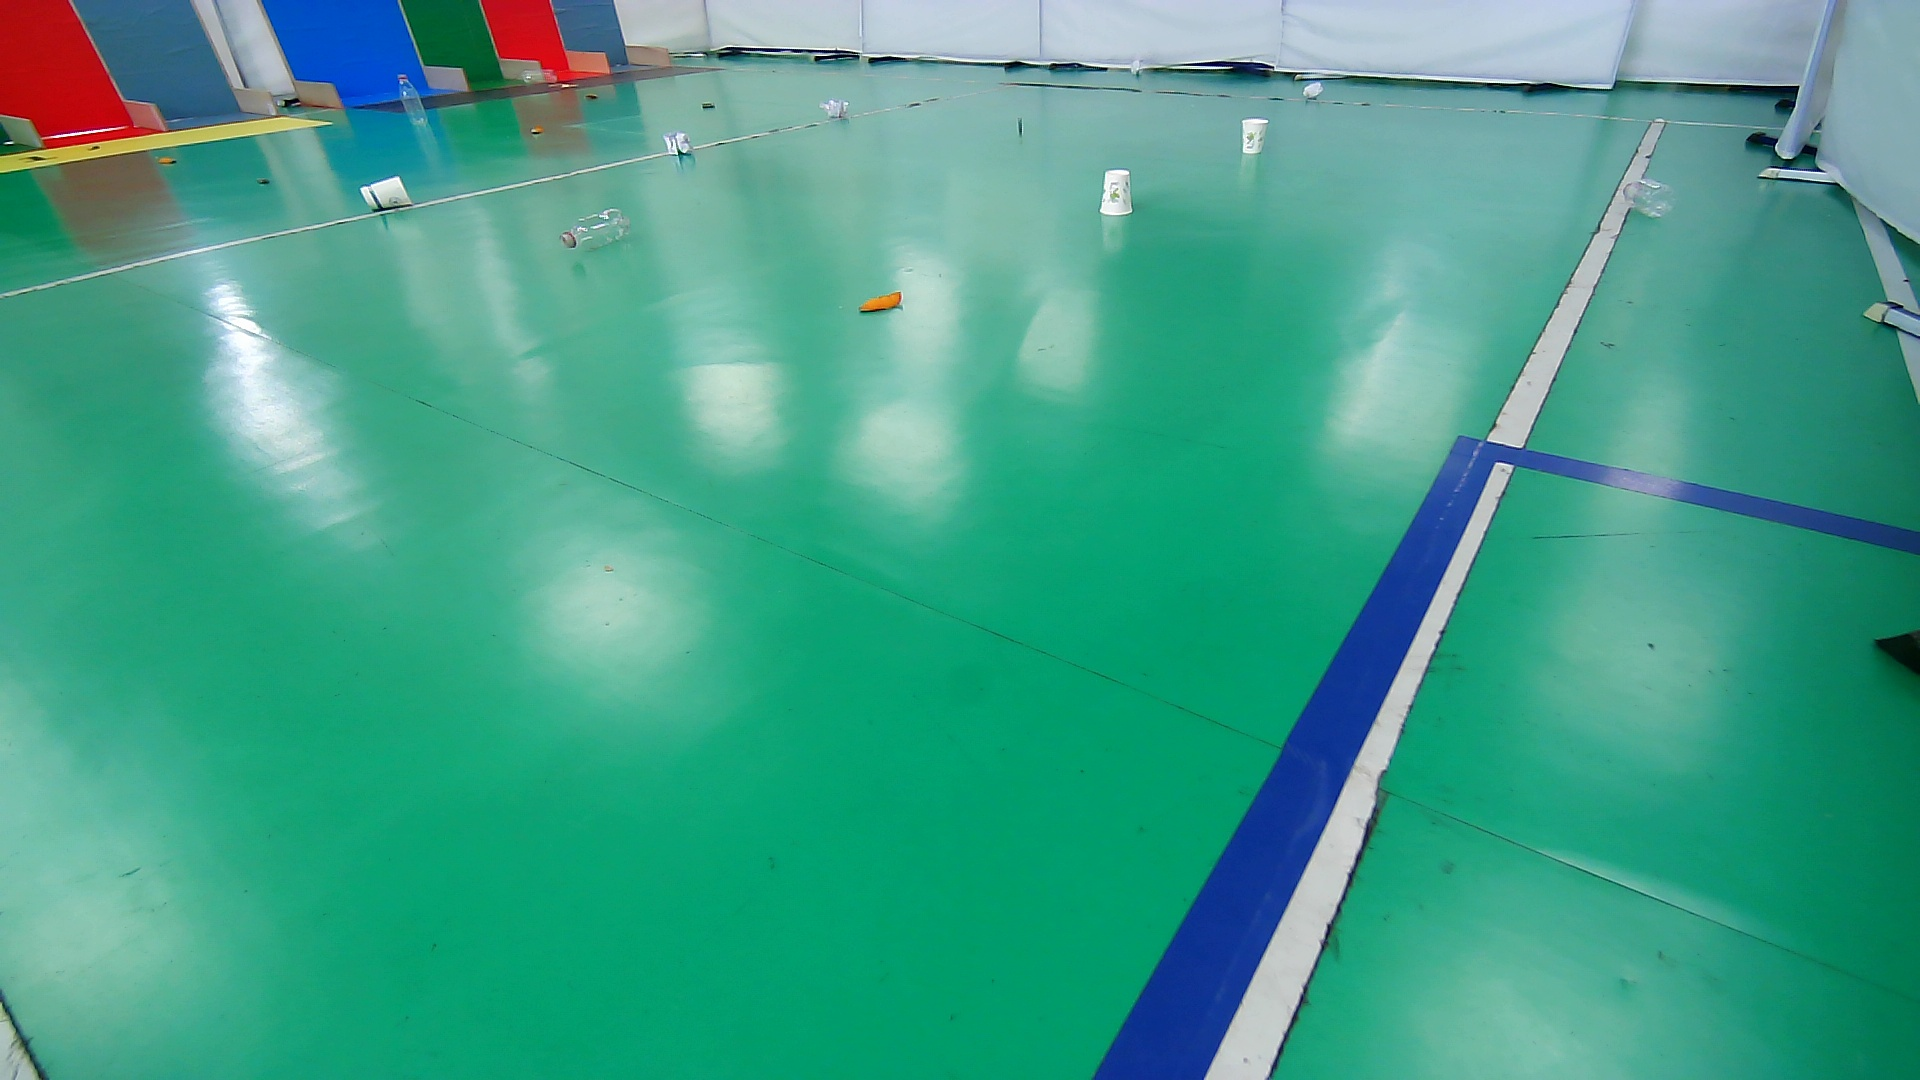battery: (1011, 111, 1031, 142), (251, 173, 277, 191), (698, 96, 720, 115)
bottle: (555, 206, 634, 255), (1619, 175, 1681, 222), (396, 69, 429, 131)
orangepeel: (853, 287, 907, 319), (152, 150, 182, 171), (525, 123, 549, 138)
papercup: (1095, 167, 1139, 219), (359, 175, 415, 214), (1237, 115, 1273, 158)
spitball: (661, 129, 698, 160), (819, 96, 851, 121), (1302, 79, 1325, 102)
